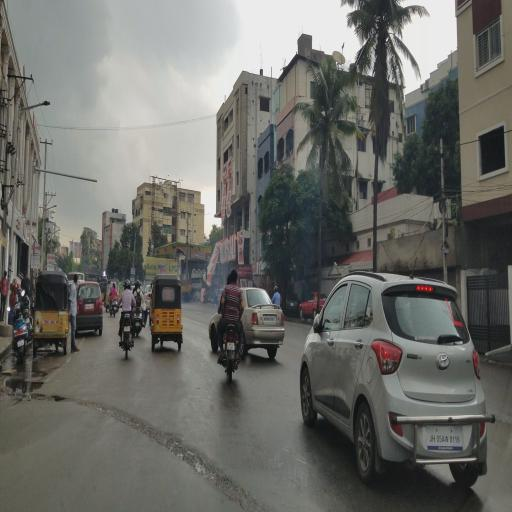street_light_0: (22, 94, 60, 120)
